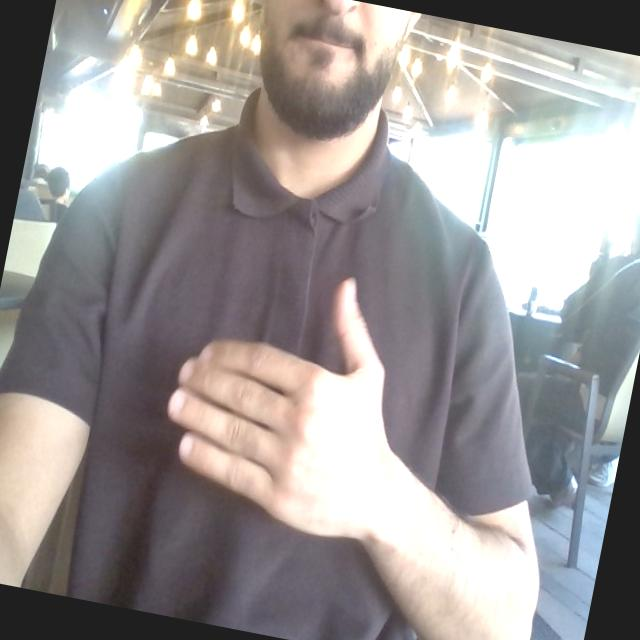Hand: (168, 280, 393, 538)
